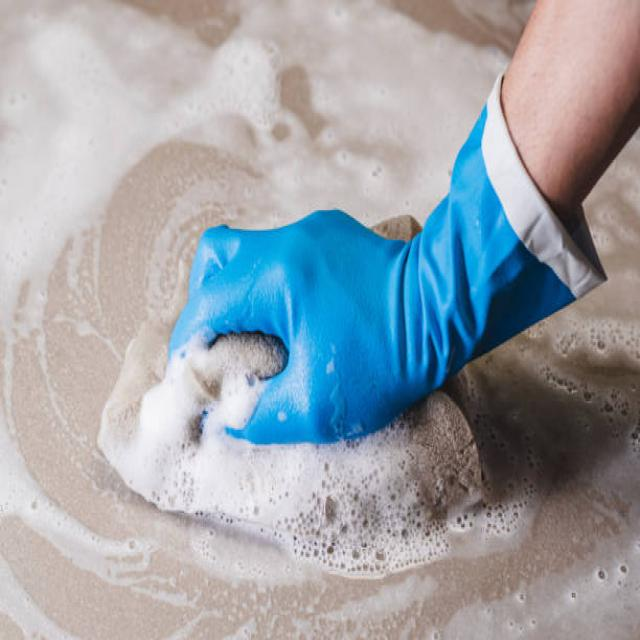gloves: (171, 70, 608, 452)
